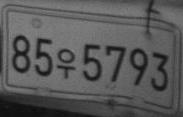4: (150, 51, 169, 92)
5: (81, 43, 102, 82), (34, 37, 53, 76)
7: (105, 44, 126, 83)
8: (11, 34, 31, 73)
9: (129, 47, 148, 86)
우: (56, 47, 76, 79)
